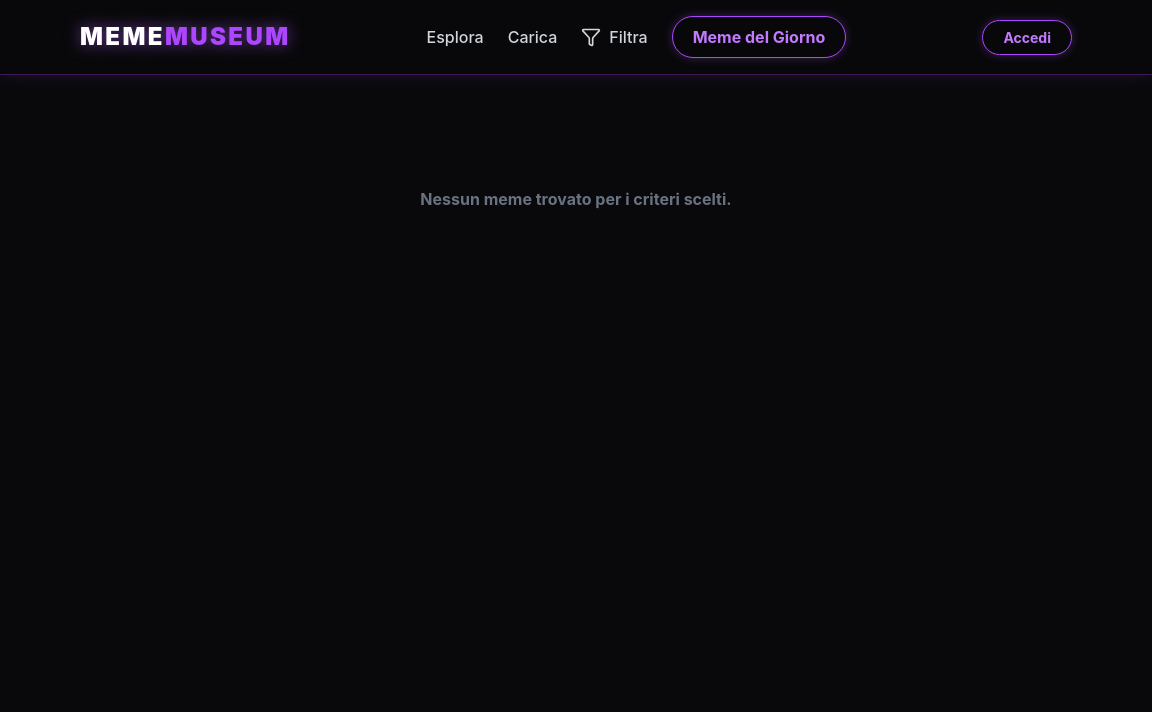
Test case: MemeMuseum - Test End-to-End › 4. Dovrebbe navigare alla pagina di Login cliccando su Accedi
Click the link "Accedi": point(1027, 38) [982,20,1072,55]
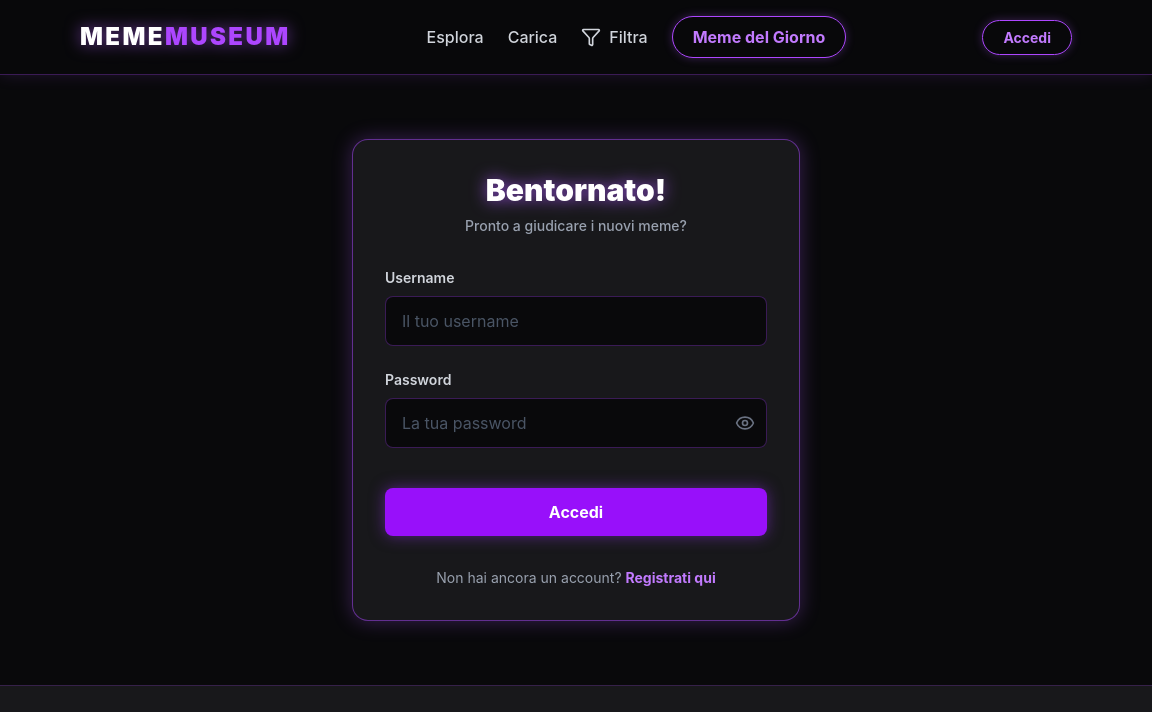
Expected: the heading "Bentornato!" is shown, [486,172,666,208]
